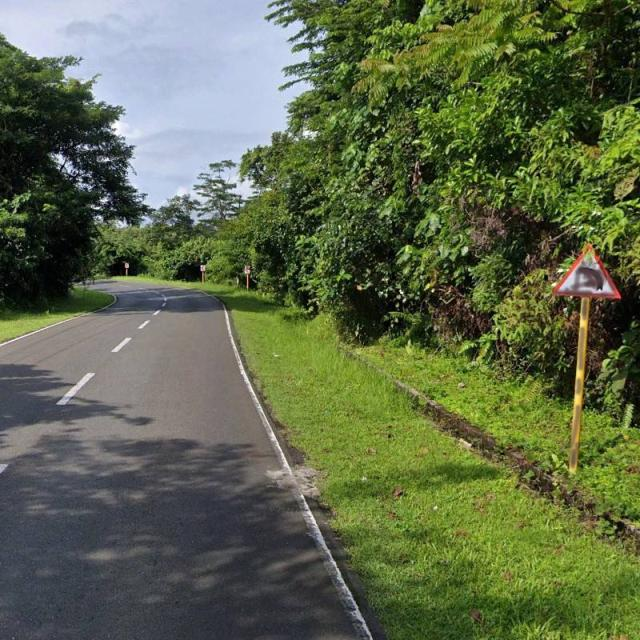warn_left_curve: (551, 243, 621, 299)
